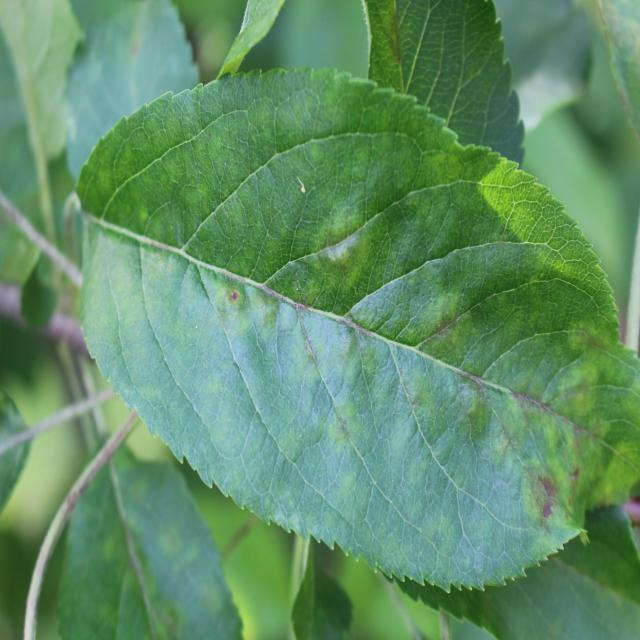scab: (208, 210, 624, 546)
